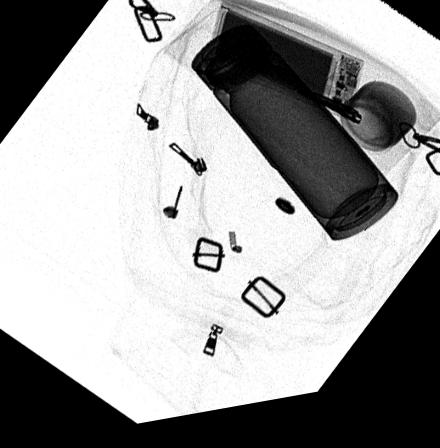Powerbank: (204, 10, 365, 135)
